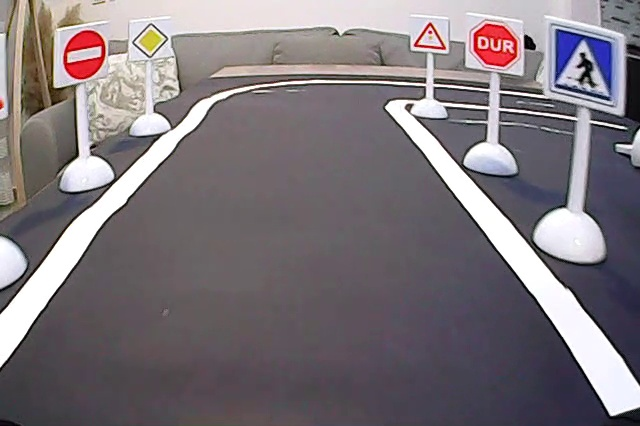do not enter: (56, 30, 112, 81)
pedestrian crossing: (549, 22, 624, 107)
red light: (409, 14, 452, 53)
stop sign: (469, 17, 525, 74)
